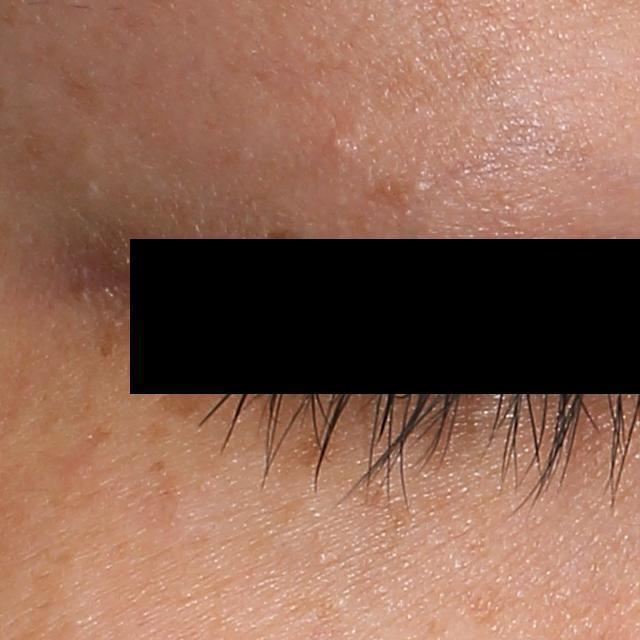melasma: (89, 321, 239, 422), (458, 577, 513, 629), (61, 56, 102, 115), (289, 426, 341, 469), (367, 177, 414, 211), (145, 458, 168, 477)
